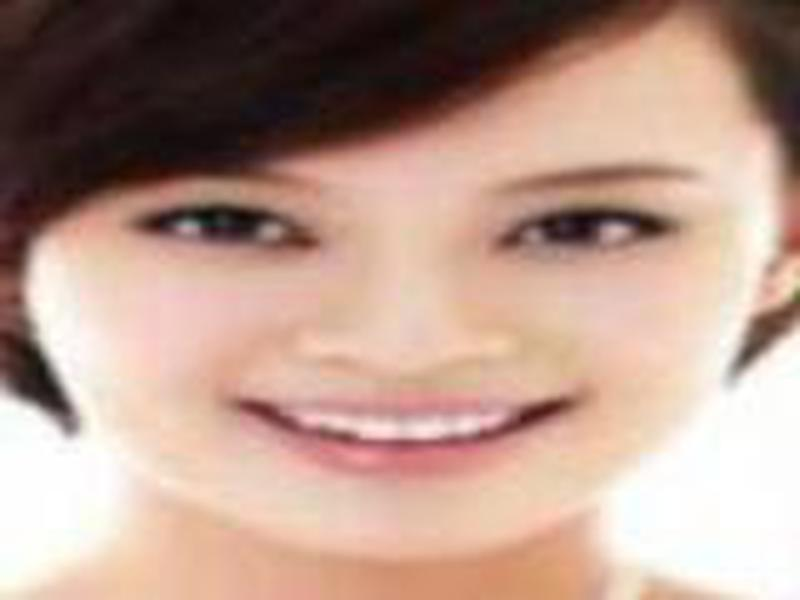without_mask: (34, 87, 753, 559)
